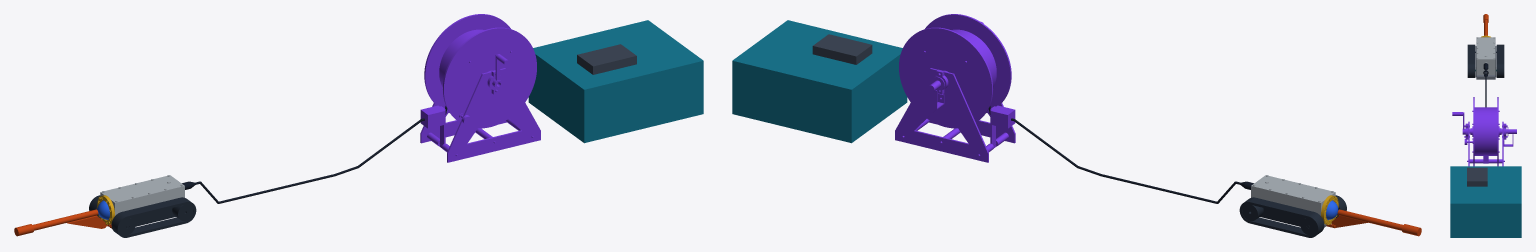
3 views of the same model, side by side, from view 1: azimuth 30°, elevation 25°; view 2: azimuth 150°, elevation 25°; view 3: azimuth 270°, elevation 25° (orthographic). The views are drawn at different scales.
Visible parts, largest first — view 1: Surface control box (LiFePO4, 48 V boost), Tether reel, slip ring, payout counter, Track modules and side plates, Sealed hull and lid, Operator gamepad, Laser ring projector on fin and boom, Tether, 60 m hybrid, with strain relief and eye bolt; view 2: Surface control box (LiFePO4, 48 V boost), Tether reel, slip ring, payout counter, Track modules and side plates, Sealed hull and lid, Operator gamepad, Laser ring projector on fin and boom, Tether, 60 m hybrid, with strain relief and eye bolt; view 3: Surface control box (LiFePO4, 48 V boost), Tether reel, slip ring, payout counter, Sealed hull and lid, Track modules and side plates, Operator gamepad, Tether, 60 m hybrid, with strain relief and eye bolt, Laser ring projector on fin and boom, Ballast skid plate.
Boxes of the visible parts, x1=… form: Surface control box (LiFePO4, 48 V boost): x1=528, y1=20, x2=703, y2=143; Tether reel, slip ring, payout counter: x1=420, y1=14, x2=540, y2=162; Track modules and side plates: x1=89, y1=195, x2=196, y2=237; Sealed hull and lid: x1=100, y1=175, x2=184, y2=224; Operator gamepad: x1=577, y1=44, x2=636, y2=74; Laser ring projector on fin and boom: x1=14, y1=209, x2=111, y2=236; Tether, 60 m hybrid, with strain relief and eye bolt: x1=182, y1=106, x2=447, y2=203; Surface control box (LiFePO4, 48 V boost): x1=732, y1=20, x2=907, y2=143; Tether reel, slip ring, payout counter: x1=895, y1=14, x2=1015, y2=162; Track modules and side plates: x1=1239, y1=195, x2=1346, y2=237; Sealed hull and lid: x1=1251, y1=175, x2=1335, y2=224; Operator gamepad: x1=812, y1=34, x2=872, y2=64; Laser ring projector on fin and boom: x1=1326, y1=209, x2=1421, y2=236; Tether, 60 m hybrid, with strain relief and eye bolt: x1=988, y1=106, x2=1253, y2=203; Surface control box (LiFePO4, 48 V boost): x1=1450, y1=166, x2=1521, y2=237; Tether reel, slip ring, payout counter: x1=1452, y1=97, x2=1516, y2=166; Sealed hull and lid: x1=1476, y1=37, x2=1495, y2=74; Track modules and side plates: x1=1467, y1=44, x2=1504, y2=77; Operator gamepad: x1=1467, y1=167, x2=1487, y2=186; Tether, 60 m hybrid, with strain relief and eye bolt: x1=1483, y1=63, x2=1488, y2=107; Laser ring projector on fin and boom: x1=1483, y1=14, x2=1488, y2=35; Ballast skid plate: x1=1476, y1=75, x2=1495, y2=79.
Size of the model in its own units: 2.26 by 0.39 by 0.33.
